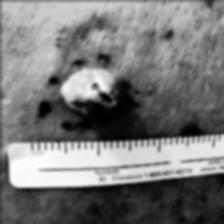Unclassified: (67, 71, 123, 115)
